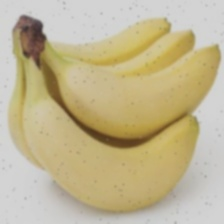banana: (37, 12, 210, 184)
